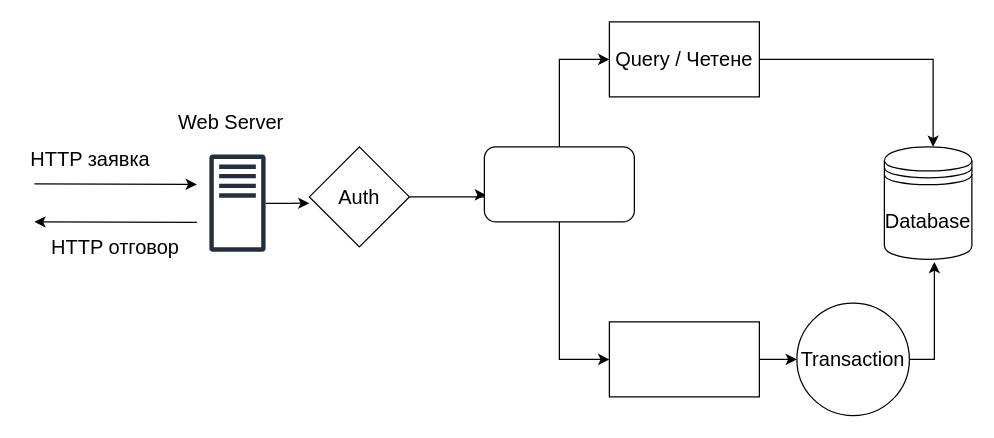
Some shapes in this 994 by 438 pixel diagram are drawn without their labels. The centre of each missing label's shape, as x and y in pixels:
Command / Запис: [683,359]
Controller: [558,184]
